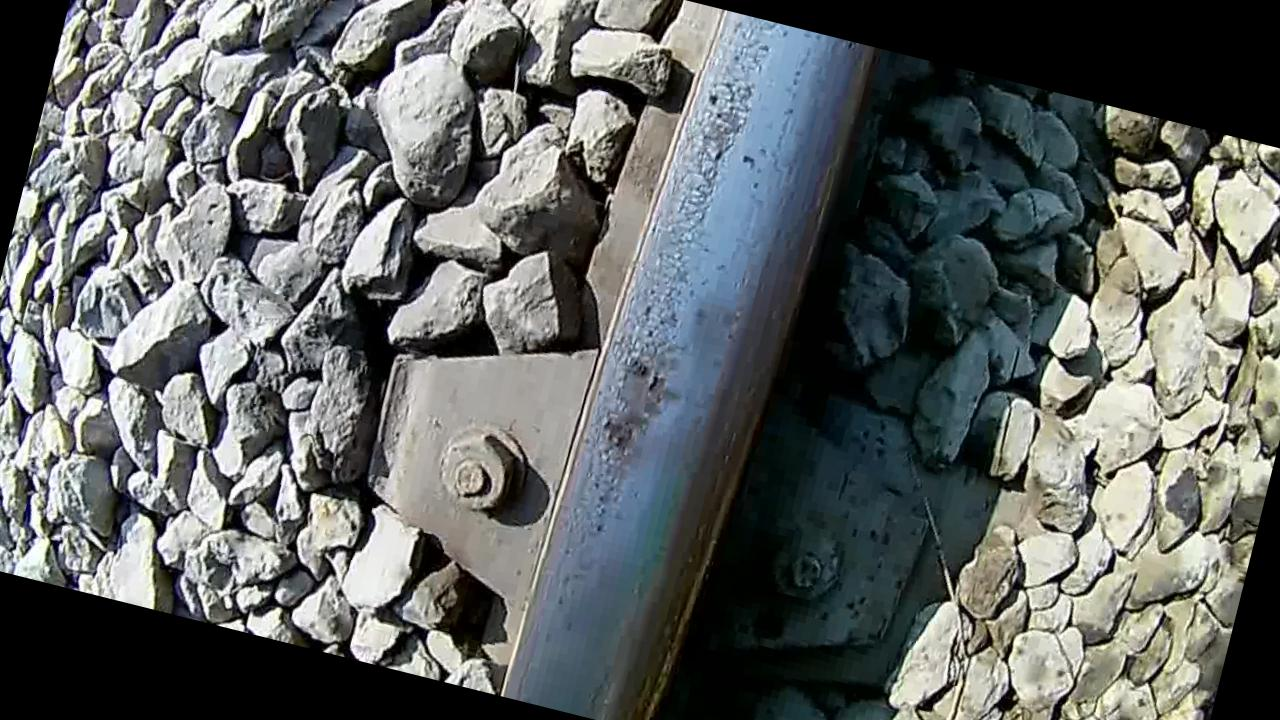crack: (512, 1, 874, 720)
